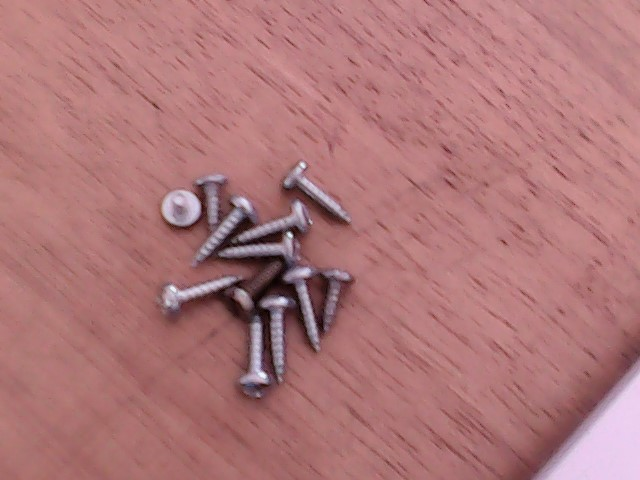Metal: (130, 130, 358, 407)
